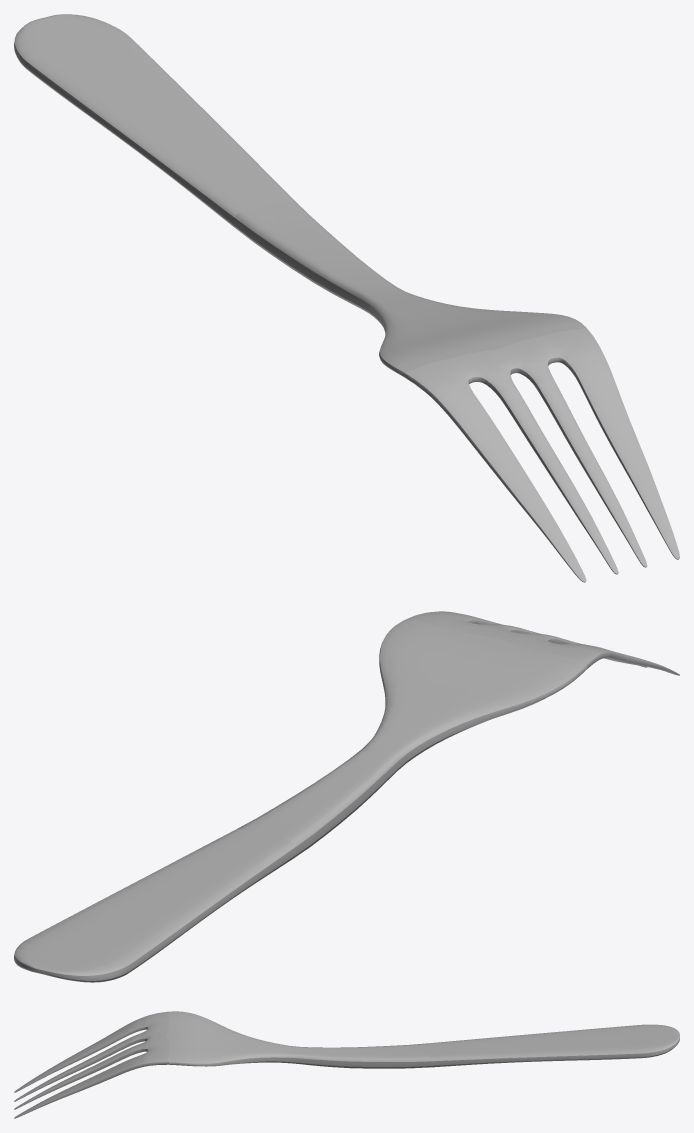
Rendered from kitchenware_fork_j01.glb.
The picture shows the model from 3 angles, top to bottom: view 1: azimuth 30°, elevation 25°; view 2: azimuth 150°, elevation 25°; view 3: azimuth 270°, elevation 25°; orthographic projection. The views are drawn at different scales.
Visible parts, largest first — view 1: prop; view 2: prop; view 3: prop.
Part boxes in pixels (left/top/right/bottom): prop: left=14, top=14, right=679, bottom=582; prop: left=14, top=611, right=679, bottom=982; prop: left=14, top=1011, right=679, bottom=1118.
Bounding box in the file's own units: 0.1294 × 0.0822 × 0.704.
1 material, 1 textured.
